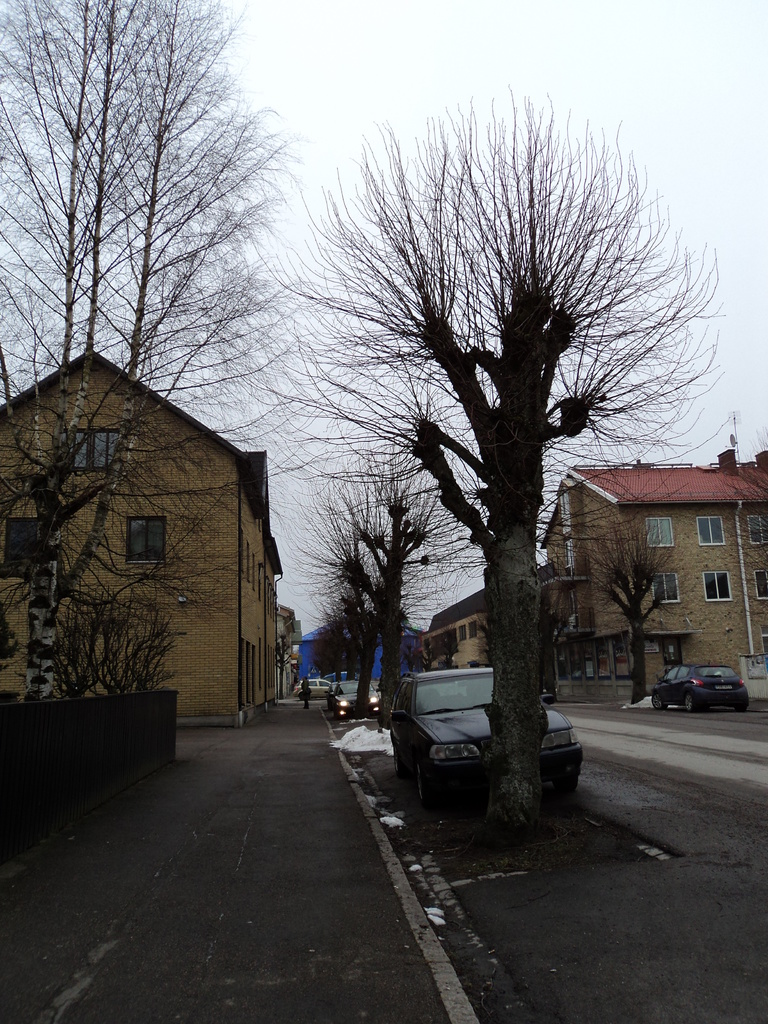Tree: (296, 77, 698, 751), (0, 0, 302, 707), (320, 444, 486, 742), (299, 544, 388, 717)
